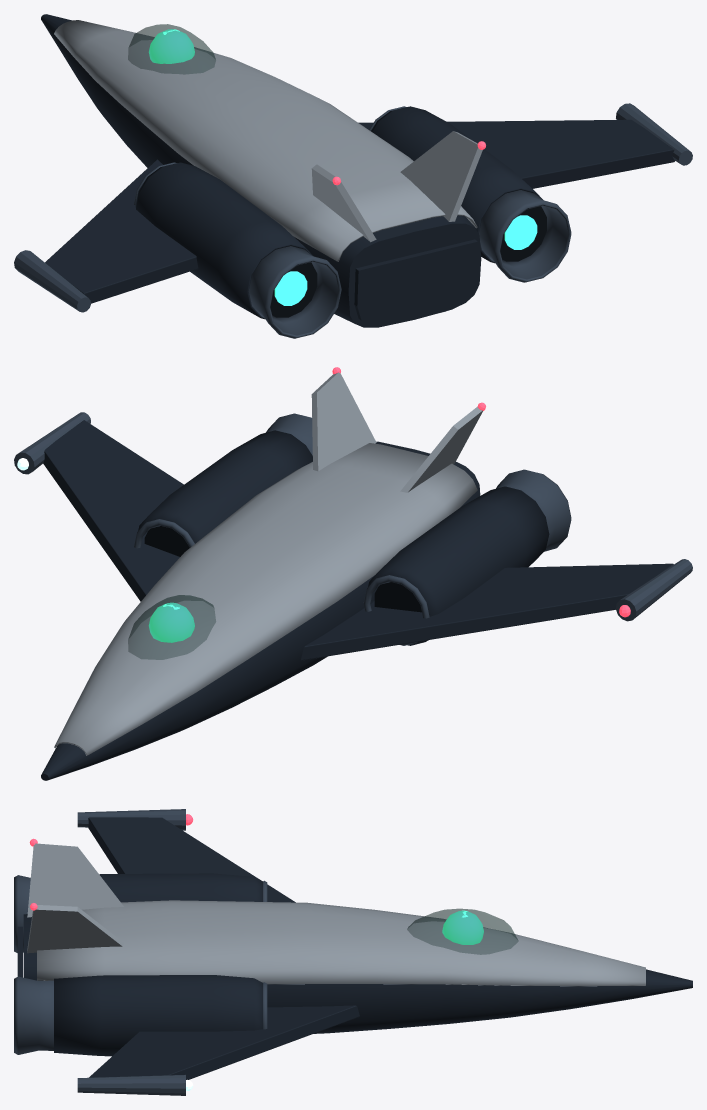
Rendered from end2-dropship-fleet.glb.
The picture shows the model from 3 angles, top to bottom: view 1: azimuth 30°, elevation 25°; view 2: azimuth 150°, elevation 25°; view 3: azimuth 270°, elevation 25°; orthographic projection. The views are drawn at different scales.
Parts seen in each view (by area): view 1: plate_top, nacelle_l, wing_r_core, wing_l_core, hull, ramp_door, nacelle_r, nozzle_l_bell, nozzle_r_bell, fin_r_mesh, glass, tip_l_pod (+7 smaller); view 2: plate_top, wing_l_core, wing_r_core, nacelle_l, hull, nacelle_r, glass, fin_r_mesh, nozzle_l_bell, fin_l_mesh, tip_l_pod, orb (+5 smaller); view 3: plate_top, nacelle_r, hull, wing_r_core, wing_l_core, fin_l_mesh, nacelle_l, glass, fin_r_mesh, nozzle_r_bell, tip_r_pod, orb (+2 smaller).
Boxes of the visible parts, bbox=[...] form: plate_top: bbox=[54, 20, 477, 261]; nacelle_l: bbox=[135, 162, 313, 319]; wing_r_core: bbox=[358, 119, 674, 188]; wing_l_core: bbox=[45, 159, 198, 303]; hull: bbox=[41, 14, 481, 327]; ramp_door: bbox=[354, 239, 478, 325]; nacelle_r: bbox=[371, 106, 543, 263]; nozzle_l_bell: bbox=[248, 246, 341, 338]; nozzle_r_bell: bbox=[479, 190, 571, 282]; fin_r_mesh: bbox=[400, 131, 482, 221]; glass: bbox=[128, 24, 215, 74]; tip_l_pod: bbox=[14, 250, 90, 312]; plate_top: bbox=[54, 443, 477, 755]; wing_l_core: bbox=[301, 563, 673, 660]; wing_r_core: bbox=[43, 420, 183, 601]; nacelle_l: bbox=[368, 486, 549, 645]; hull: bbox=[41, 441, 480, 780]; nacelle_r: bbox=[138, 430, 312, 543]; glass: bbox=[128, 595, 215, 659]; fin_r_mesh: bbox=[311, 372, 376, 471]; nozzle_l_bell: bbox=[496, 469, 571, 551]; fin_l_mesh: bbox=[400, 406, 482, 492]; tip_l_pod: bbox=[616, 559, 692, 621]; orb: bbox=[148, 602, 194, 642]; plate_top: bbox=[37, 900, 645, 986]; nacelle_r: bbox=[54, 975, 262, 1056]; hull: bbox=[23, 914, 692, 1033]; wing_r_core: bbox=[89, 1005, 359, 1079]; wing_l_core: bbox=[88, 817, 295, 902]; fin_l_mesh: bbox=[27, 843, 123, 917]; nacelle_l: bbox=[99, 873, 262, 902]; glass: bbox=[407, 908, 518, 954]; fin_r_mesh: bbox=[27, 905, 123, 953]; nozzle_r_bell: bbox=[14, 976, 53, 1054]; tip_r_pod: bbox=[77, 1074, 185, 1095]; orb: bbox=[442, 910, 483, 944].
Size of the model in its own units: 19.22 by 4.8 by 20.09.
